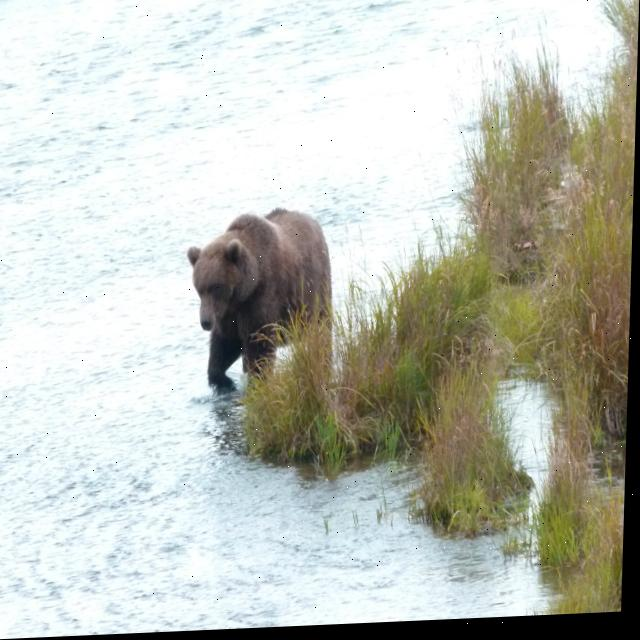bear face: (187, 210, 337, 397)
